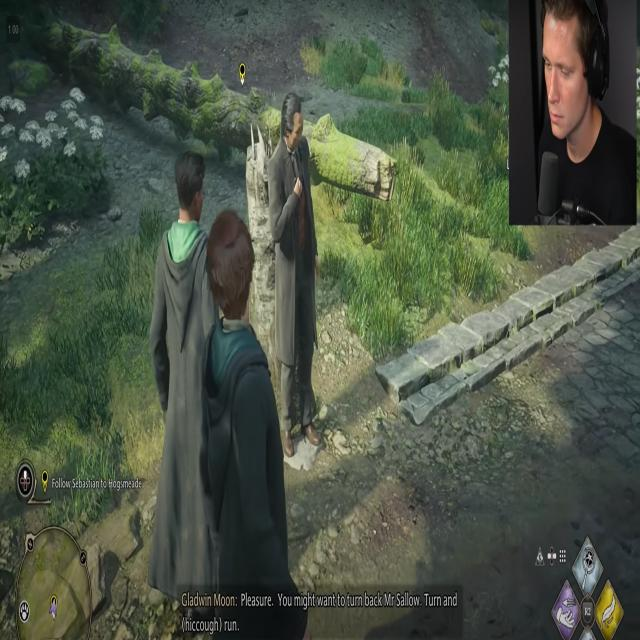compass: (50, 594, 58, 621), (239, 61, 246, 88), (42, 469, 48, 494)
